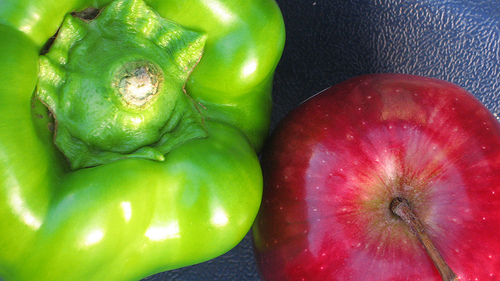capsicum: (1, 0, 287, 280)
